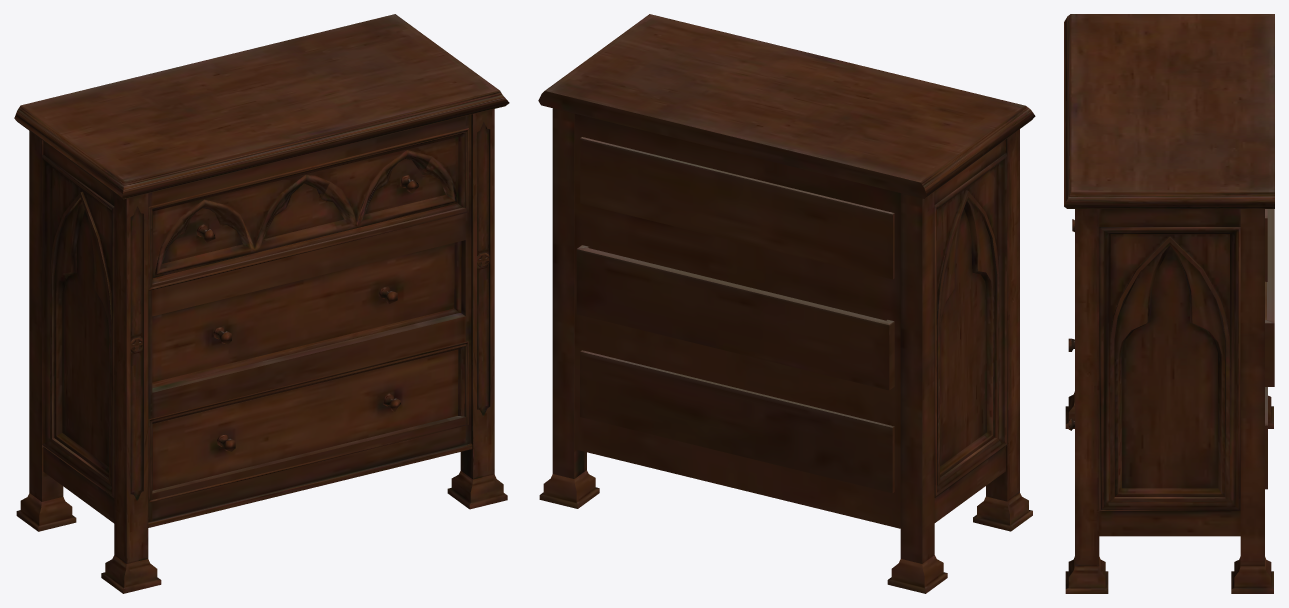
Rendered from GothicCommode_01.glb.
The picture shows the model from 3 angles, left to right: view 1: azimuth 30°, elevation 25°; view 2: azimuth 150°, elevation 25°; view 3: azimuth 270°, elevation 25°; orthographic projection. The views are drawn at different scales.
Parts seen in each view (by area): view 1: GothicCommode_01; view 2: GothicCommode_01; view 3: GothicCommode_01.
Boxes of the visible parts, <box> form: GothicCommode_01: <box>14,14,509,593</box>; GothicCommode_01: <box>538,14,1035,593</box>; GothicCommode_01: <box>1064,14,1274,593</box>.
Bounding box in the file's own units: 1.2 × 1.21 × 0.5807.
Materials: 1 (1 with a texture image).
